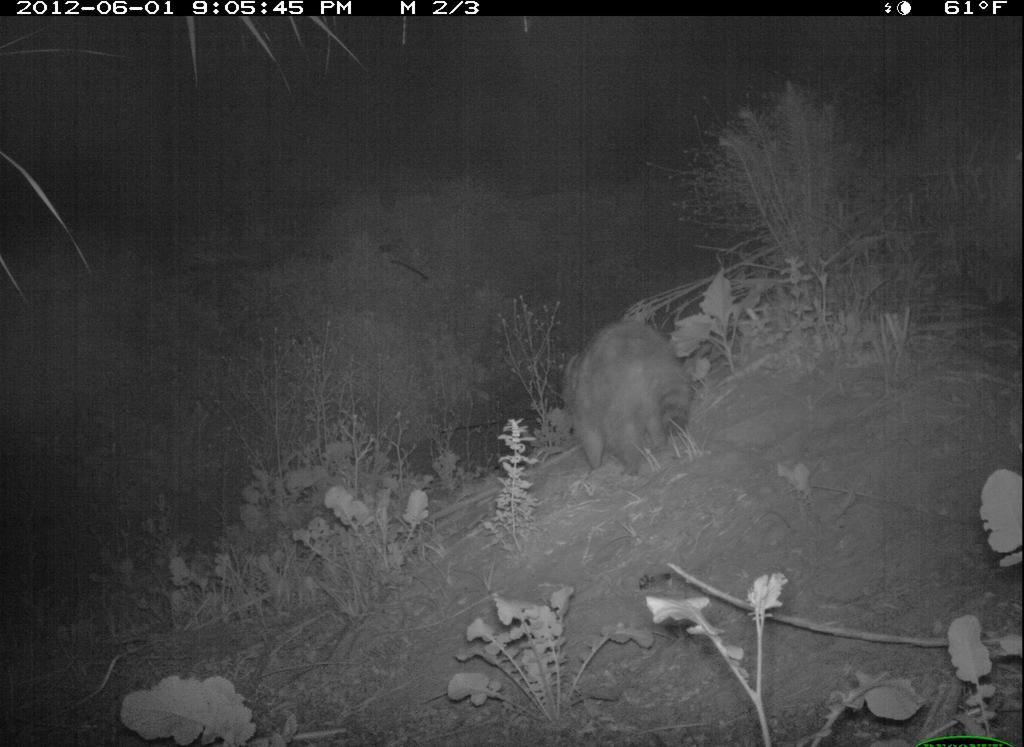raccoon: (555, 313, 705, 489)
